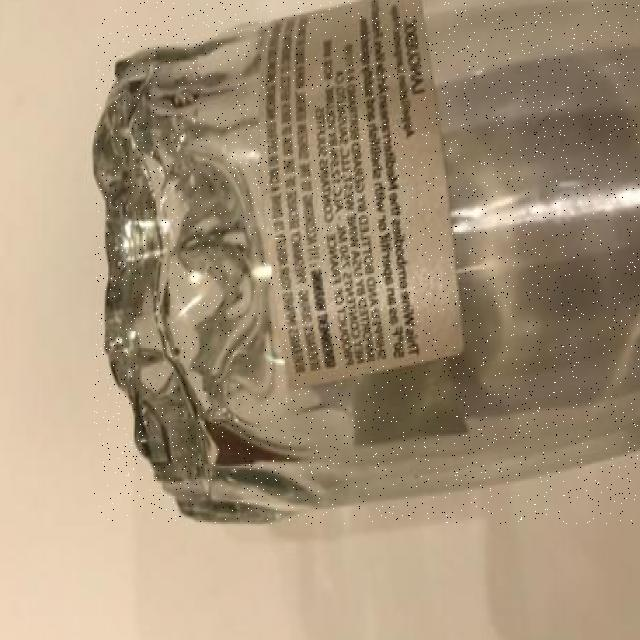glass: (94, 0, 640, 524)
